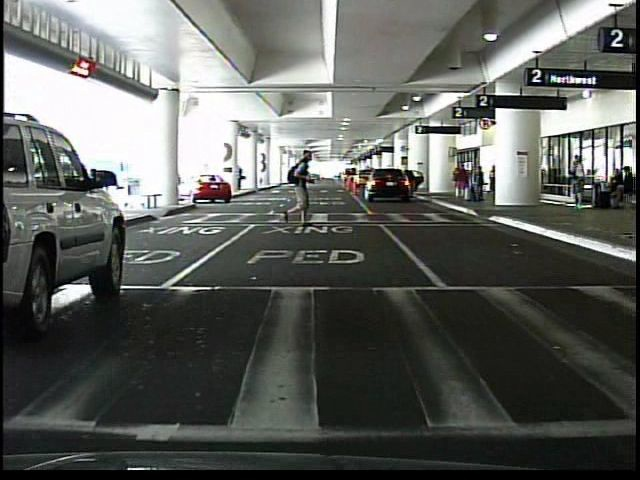person: (275, 146, 318, 226), (451, 159, 471, 201), (571, 159, 586, 208), (472, 166, 485, 201)
